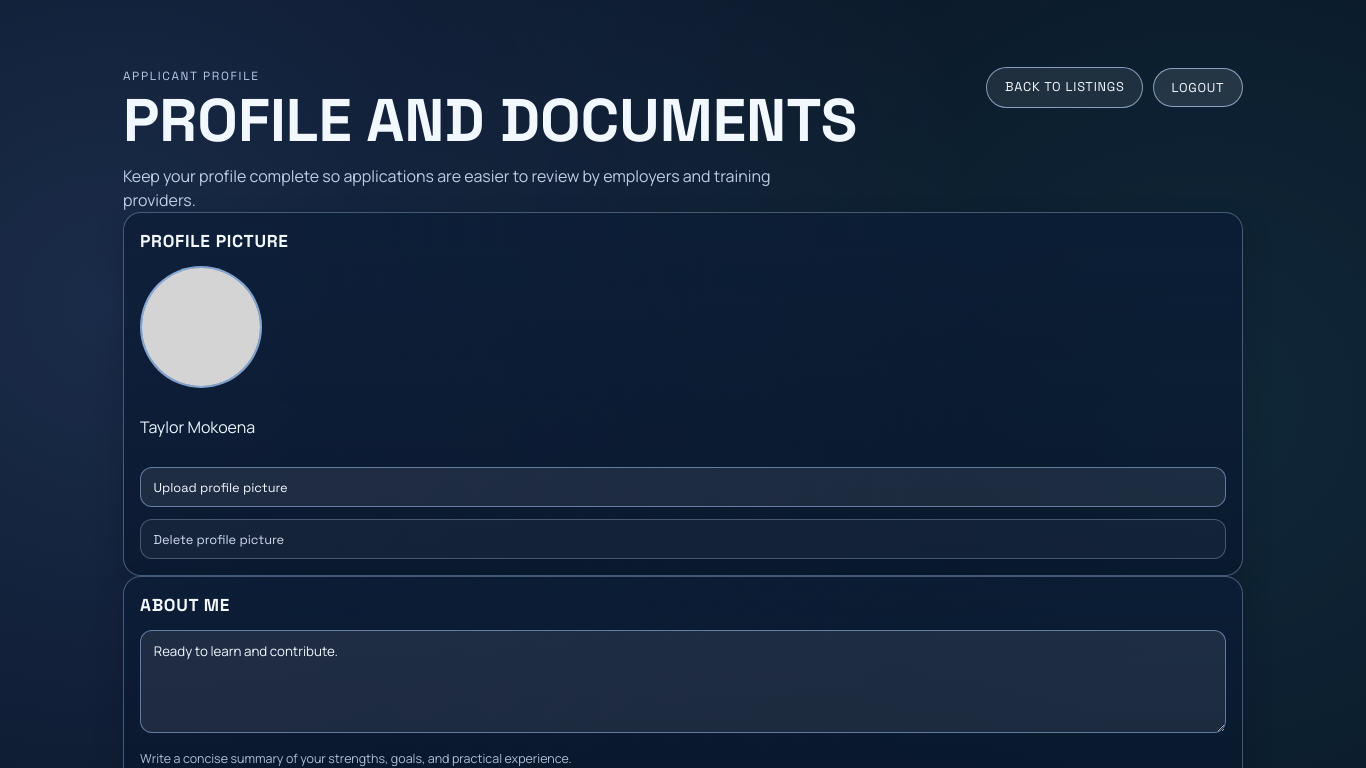
it: ApplicantProfile coverage › deletes the existing profile picture and refreshes the avatar state
The width and height of the screenshot is (1366, 768).
Click the button "Delete profile picture" at (219, 539), box [140,519,1226,559]
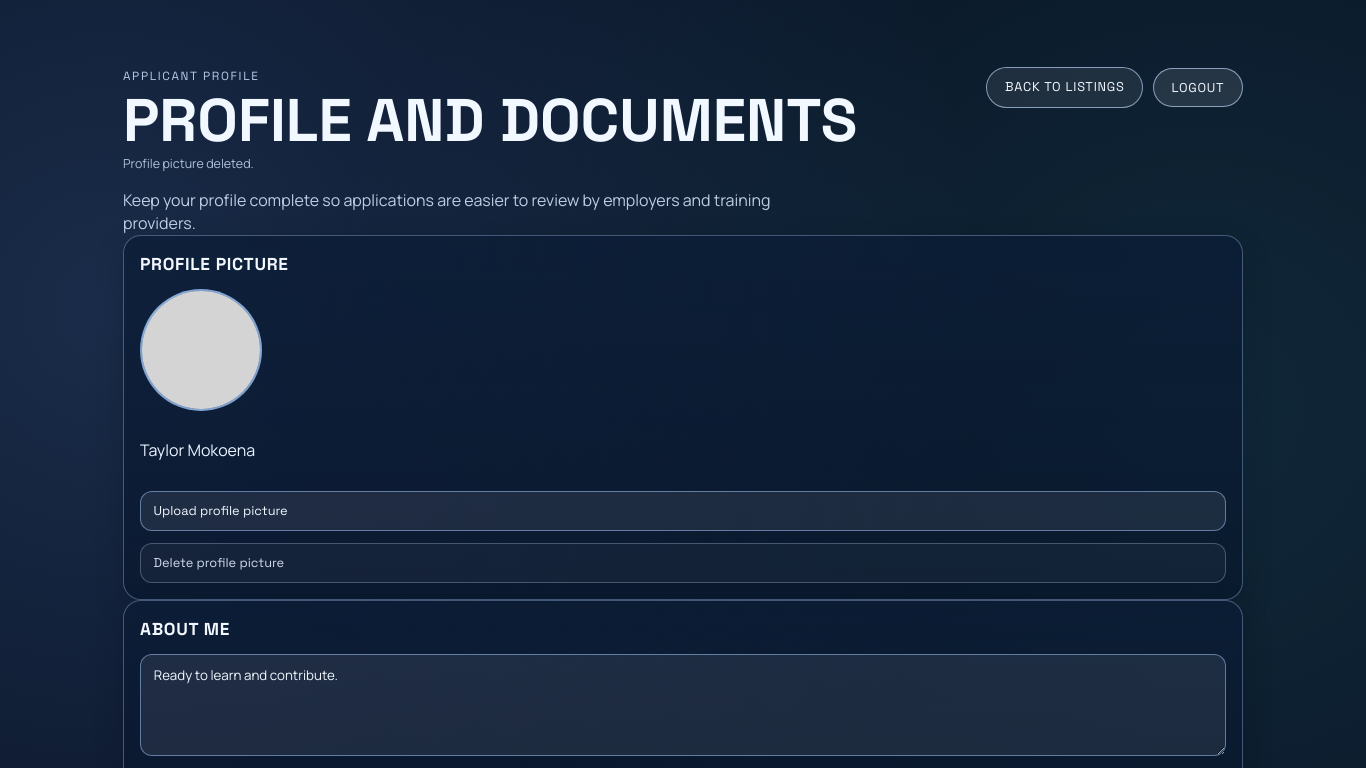
expect the text "Profile picture deleted." is shown: met, box [123,155,254,172]
